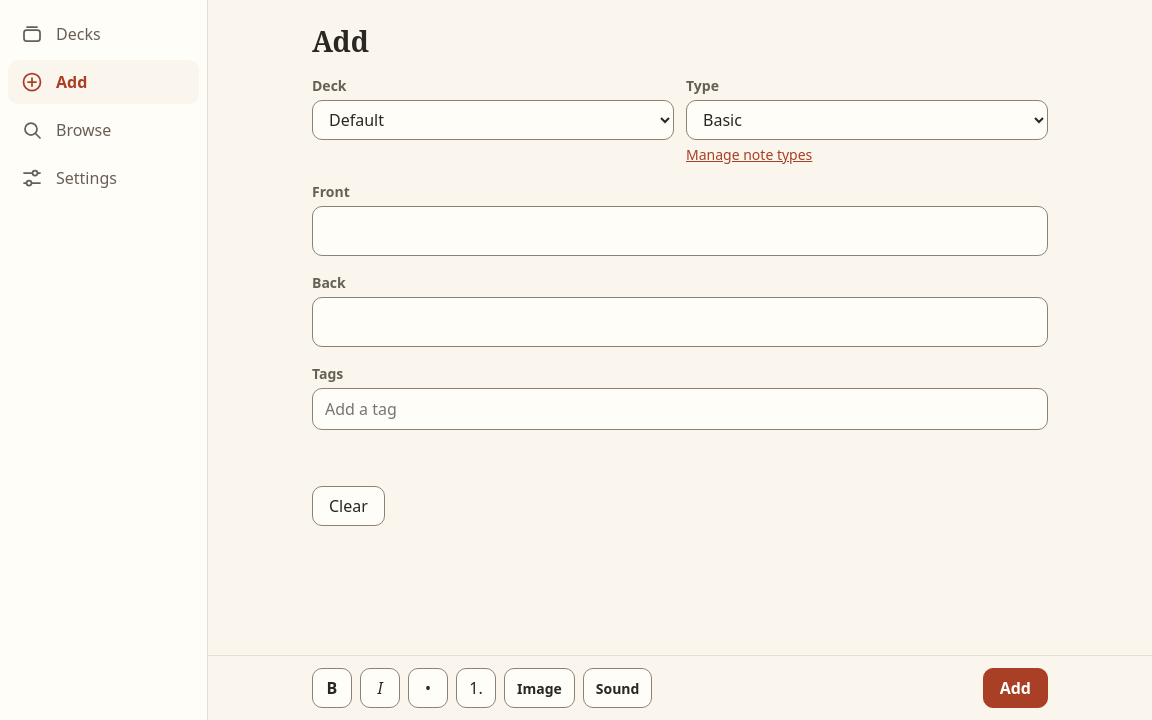
Scenario: tags › suggests tags in use by prefix, ignoring case, and not ones already on the note
This screenshot has width=1152, height=720.
Expected: the dropdown labelled "Deck" is shown, [312,100,674,140]
Type "AN" into the field labelled "Tags". click: point(680, 409)
box: [325,393,1035,425]
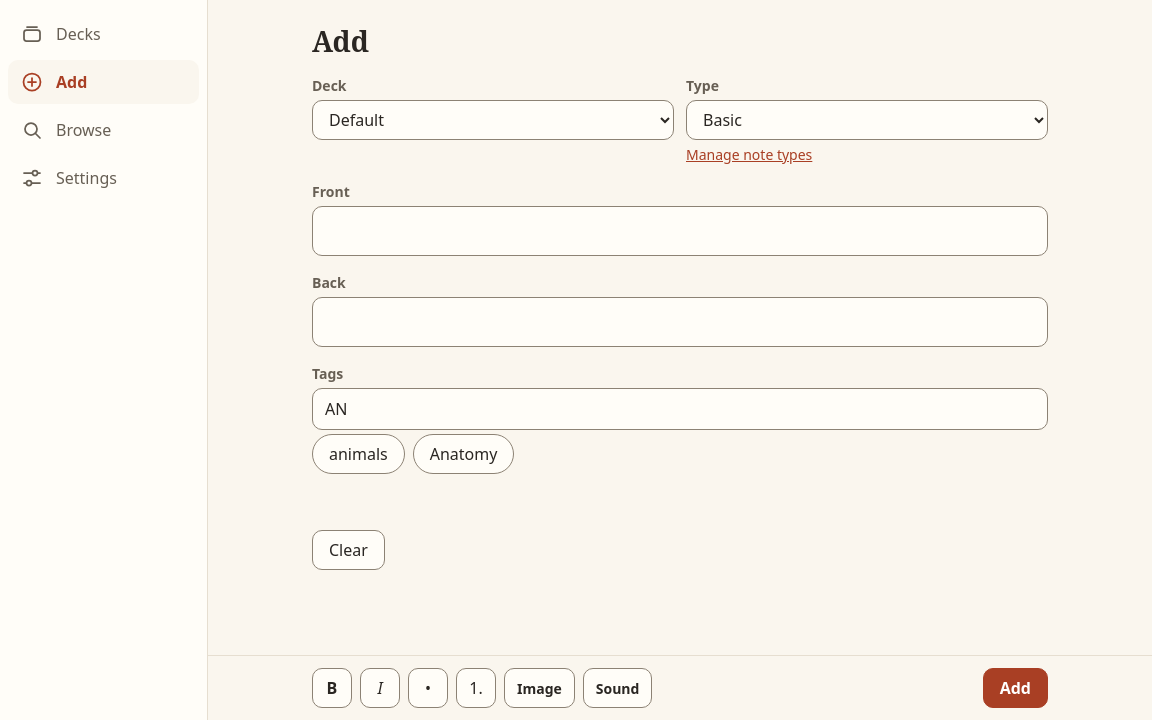
Click the button "animals". click: point(358, 454)
box: [312,434,405,474]
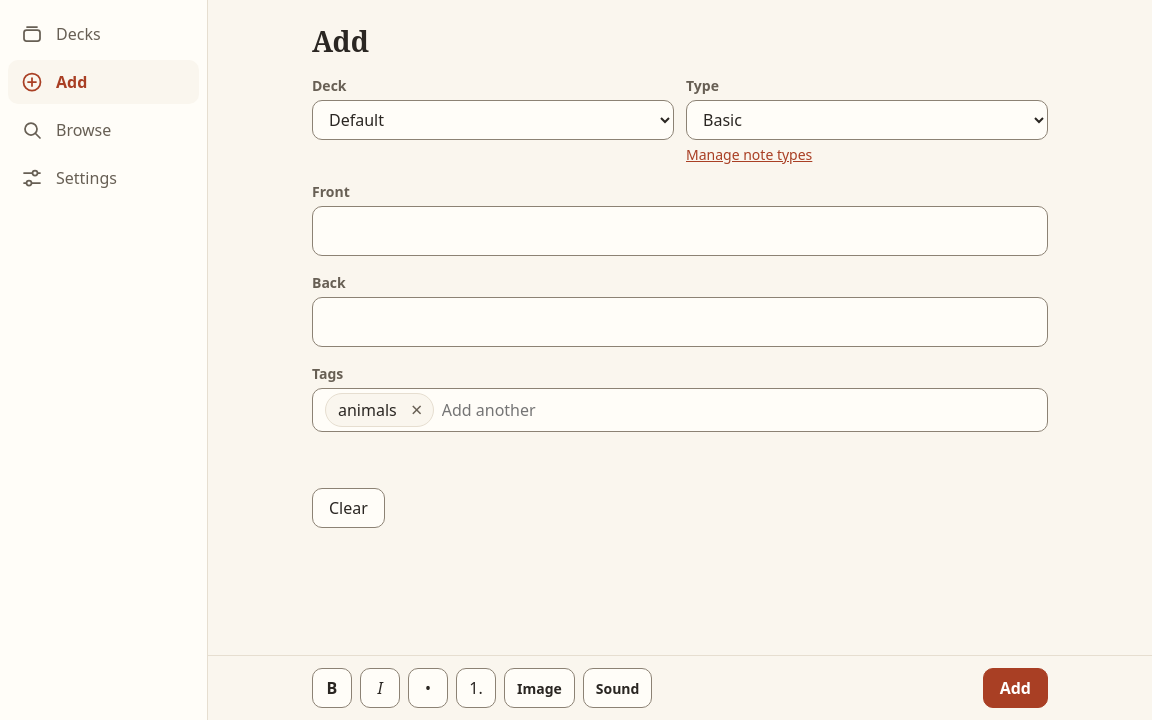
Expected: the button named "Remove tag animals" is shown, [401,394,433,426]
